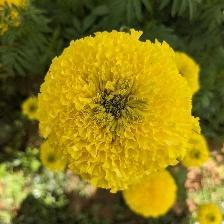marigold: (41, 30, 195, 189), (121, 169, 181, 219), (21, 95, 46, 121), (198, 202, 224, 224)
